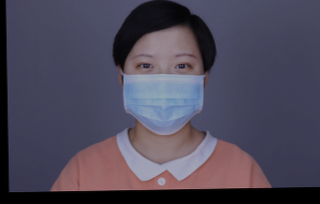with_mask: (119, 52, 207, 138)
